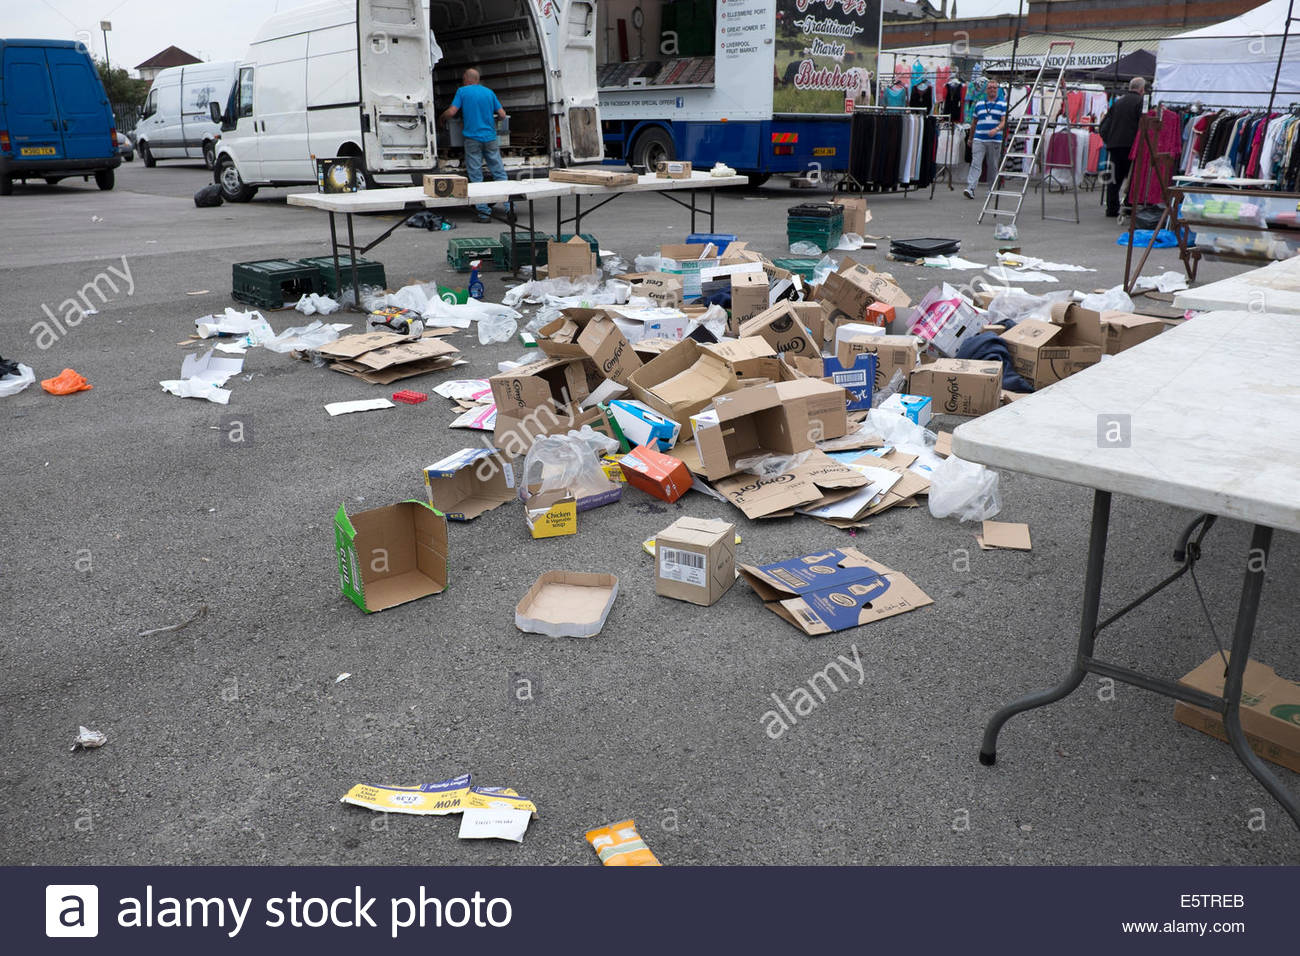cardboard: (748, 544, 936, 635), (331, 499, 459, 613), (318, 332, 473, 385)
